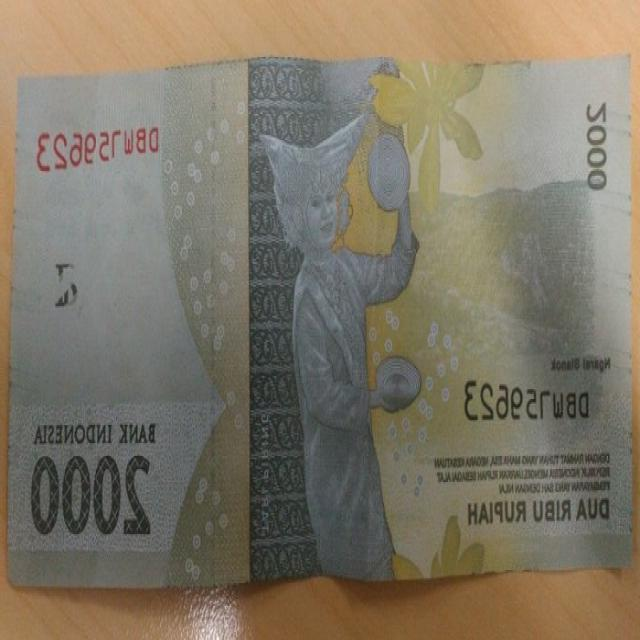dua ribu rupiah: (7, 55, 631, 593)
